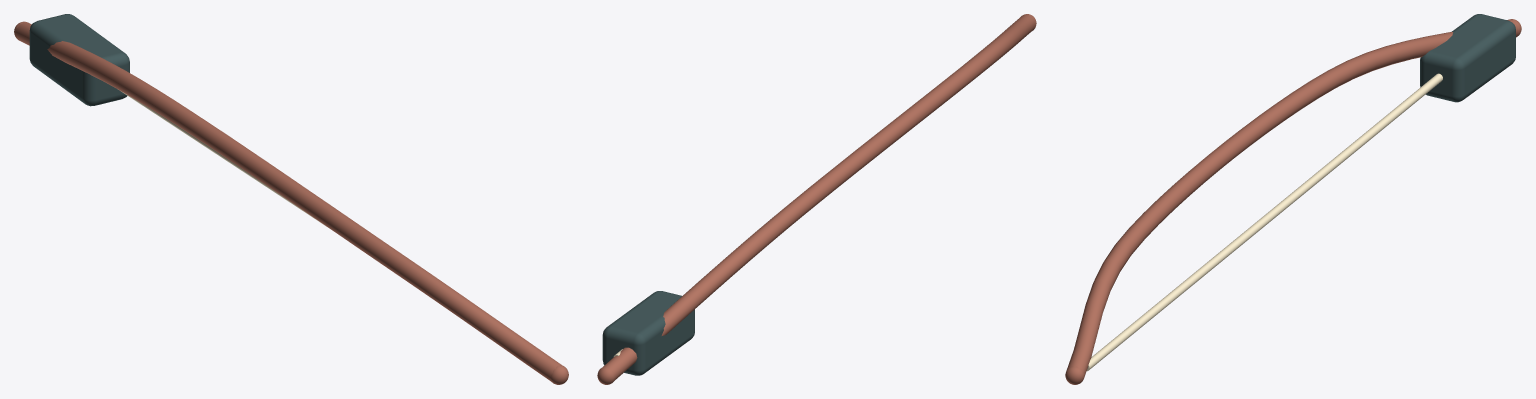
Rendered from enchanted-harp-garden-and-music-sanctuary-psaltery-bow-d57aa39a__30415.glb.
The picture shows the model from 3 angles, left to right: view 1: azimuth 30°, elevation 25°; view 2: azimuth 150°, elevation 25°; view 3: azimuth 330°, elevation 25°; orthographic projection. The views are drawn at different scales.
Parts seen in each view (by area): view 1: psaltery-bow; view 2: psaltery-bow; view 3: psaltery-bow.
Part boxes in pixels (x1=…): psaltery-bow: x1=14, y1=14, x2=568, y2=384; psaltery-bow: x1=597, y1=14, x2=1036, y2=384; psaltery-bow: x1=1065, y1=14, x2=1521, y2=384.
Size of the model in its own units: 0.0886 by 0.0853 by 0.898.
